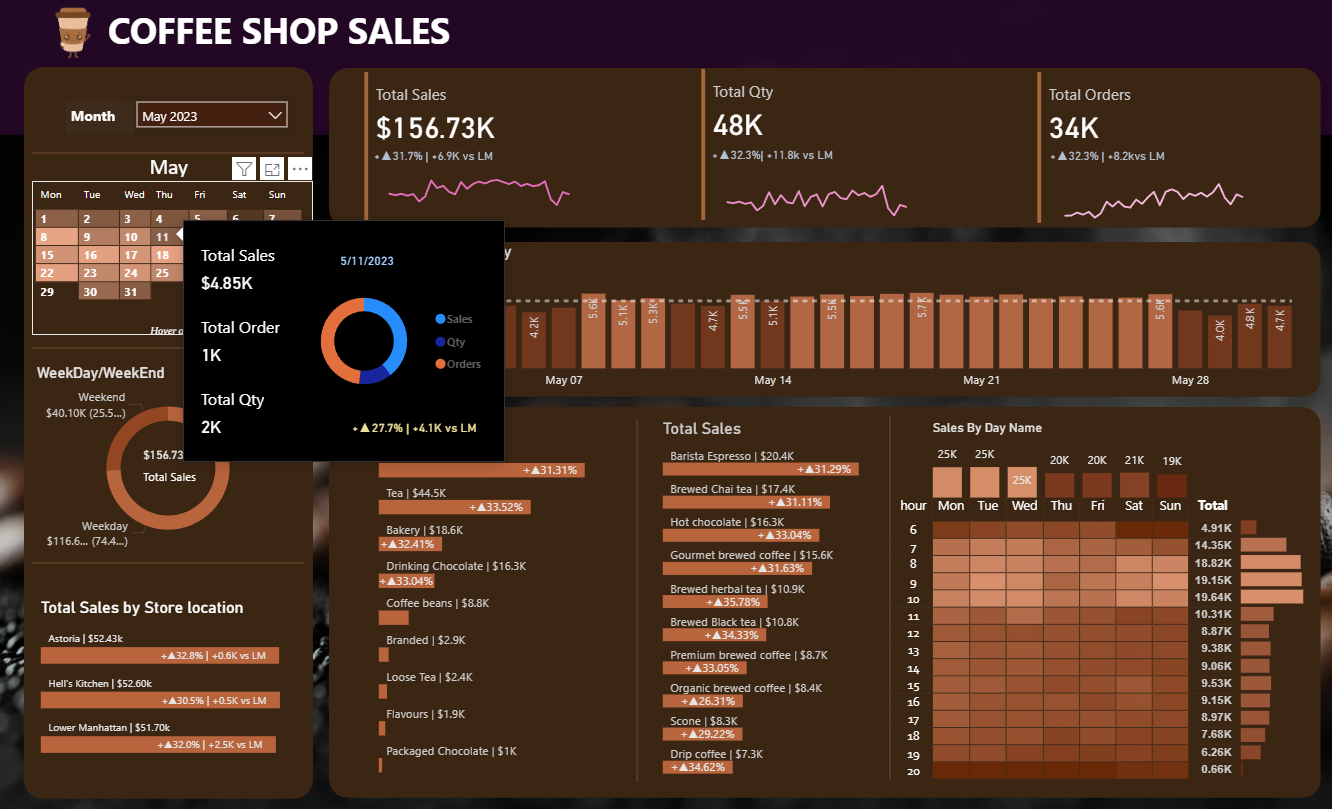

The page's visual inventory and layout, read from the dashboard file:
{"tool":"powerbi","page":{"name":"Page 1","canvas":[1400,850],"ordinal":0},"visuals":[{"type":"shape","box":[0,0,1399.6,142.4],"z":0},{"type":"shape","box":[25,71.2,302.5,766.2],"z":1000},{"type":"donutChart","title":"WeekDay/WeekEnd","fields":{"Category":["Date Table.WeekDay/WeekEnd"],"Y":["Date Table.Total Sales"]},"box":[33.5,382.1,284.7,199.9],"z":2000},{"type":"shape","box":[344.4,72.2,1038.4,167.5],"z":3000},{"type":"cardVisual","fields":{"Data":["Date Table.Total Sales"]},"box":[366.4,74.3,300.4,165.4],"z":3000,"group":"g1"},{"type":"cardVisual","fields":{"Data":["Date Table.date_hover"]},"box":[140.3,320.3,195.8,45],"z":4000},{"type":"cardVisual","fields":{"Data":["Date Table.Total Sales"]},"box":[132.9,456.4,96.3,65.9],"z":5000},{"type":"textbox","box":[97.9,2.1,389.4,72.3],"z":6000},{"type":"lineChart","fields":{"Category":["Date Table.Date.Variation.Date Hierarchy.Day"],"Y":["Date Table.Total Sales"]},"box":[386.3,157,280.5,79.6],"z":6000,"group":"g1"},{"type":"card","fields":{"Values":["Min(Date Table.Month)"]},"box":[151,161.2,51.7,29.7],"z":7000},{"type":"cardVisual","fields":{"Data":["Date Table.Total_qty_order"]},"box":[718.6,71.2,300.4,165.4],"z":8000,"group":"g2"},{"type":"group","id":"g1","title":"Group 1","box":[366.4,74.3,300.4,165.4],"z":8000},{"type":"group","id":"g2","title":"Group 2","box":[718.6,71.2,300.4,165.4],"z":9000},{"type":"cardVisual","fields":{"Data":["Date Table.Total_order"]},"box":[1070.9,74.3,300.4,165.4],"z":9000,"group":"g3"},{"type":"slicer","fields":{"Values":["Date Table.Month Year"]},"box":[132.9,97.9,177.7,44.7],"z":9000,"group":"g4"},{"type":"lineChart","fields":{"Category":["Date Table.Date.Variation.Date Hierarchy.Day"],"Y":["Date Table.Total_qty_order"]},"box":[739.5,156,279.5,80.6],"z":10000,"group":"g2"},{"type":"pivotTable","fields":{"Columns":["Date Table.dayname"],"Rows":["Date Table.weeks num"],"Values":["Min(Date Table.day num)"]},"box":[33.5,190.5,294.2,161.2],"z":10000},{"type":"group","id":"g3","title":"Group 3","box":[1070.9,74.3,300.4,165.4],"z":11000},{"type":"image","box":[25.5,0,103.2,71.3],"z":12000},{"type":"lineChart","fields":{"Category":["Date Table.Date.Variation.Date Hierarchy.Day"],"Y":["Sum(Transactions.transaction_id)"]},"box":[1093.9,157,277.4,79.6],"z":12001,"group":"g3"},{"type":"shape","box":[33.5,151.8,284.7,18.8],"z":13000},{"type":"shape","box":[33.5,328.7,284.7,73.3],"z":14000},{"type":"shape","box":[33.5,553.8,284.7,73.3],"z":15000},{"type":"clusteredBarChart","title":"Total Sales by Store location","fields":{"Y":["Date Table.clust0","Date Table.Total Sales"],"Category":["Transactions.store_location"]},"box":[37.7,627,286.8,169.6],"z":16000},{"type":"textbox","box":[69.1,107.5,71.3,35.1],"z":17000,"group":"g4"},{"type":"shape","box":[344.4,254.4,1038.4,162.3],"z":17000},{"type":"columnChart","title":"Sales Trend By All Day","fields":{"Category":["Transactions.transaction_date"],"Y":["Sum(Transactions.Sales)"]},"box":[361.1,254.4,1004.9,162.3],"z":18000},{"type":"group","id":"g4","title":"Group 7","box":[69.1,97.9,241.5,44.7],"z":19000},{"type":"shape","box":[344.4,427.1,1038.4,409.3],"z":20000},{"type":"shape","box":[912.4,436.4,37.7,380],"z":21000},{"type":"shape","box":[648.5,439.3,38.3,379.8],"z":22000},{"type":"clusteredBarChart","title":"Total Sales By Product Category","fields":{"Category":["Transactions.product_category"],"Y":["Date Table.top0","Date Table.Total Sales"]},"box":[391.5,439.1,257.8,376.7],"z":23000},{"type":"clusteredBarChart","title":"Sales By Products (Top 10)","fields":{"Category":["Transactions.product_type"],"Y":["Date Table.top0","Date Table.Total Sales"]},"box":[689,439.4,250.2,376.8],"z":24000},{"type":"pivotTable","fields":{"Columns":["Date Table.dayname"],"Values":["Sum(Transactions.Sales)"],"Rows":["Transactions.hour"]},"box":[931.4,515.9,368.1,321.3],"z":25000},{"type":"barChart","fields":{"Y":["Sum(Transactions.Sales)"],"Category":["Transactions.hour"]},"box":[1294.2,532.9,76.6,286.2],"z":26000},{"type":"columnChart","title":"Sales By Day | Hour","fields":{"Category":["Date Table.dayname"],"Y":["Sum(Transactions.Sales)"]},"box":[971.8,441.6,276.6,86.2],"z":27000}]}

Visuals, with their boxes in screenshot pixels (x1, y1, x2, y2), scaled from the page's 1400x850 canvas onto the 1332x809 screenshot:
shape: 0:0:1331:136
shape: 24:68:312:797
"WeekDay/WeekEnd" donutChart: 32:364:303:554
shape: 328:69:1316:228
cardVisual - Date Table.Total Sales: 349:71:634:228
cardVisual - Date Table.date_hover: 133:305:320:348
cardVisual - Date Table.Total Sales: 126:434:218:497
textbox: 93:2:464:71
lineChart - Date Table.Date.Variation.Date Hierarchy.Day x Date Table.Total Sales: 368:149:634:225
card - Min(Date Table.Month): 144:153:193:182
cardVisual - Date Table.Total_qty_order: 684:68:970:225
"Group 1" group: 349:71:634:228
"Group 2" group: 684:68:970:225
cardVisual - Date Table.Total_order: 1019:71:1305:228
slicer - Date Table.Month Year: 126:93:296:136
lineChart - Date Table.Date.Variation.Date Hierarchy.Day x Date Table.Total_qty_order: 704:148:970:225
pivotTable - Date Table.dayname x Date Table.weeks num: 32:181:312:335
"Group 3" group: 1019:71:1305:228
image: 24:0:122:68
lineChart - Date Table.Date.Variation.Date Hierarchy.Day x Sum(Transactions.transaction_id): 1041:149:1305:225
shape: 32:144:303:162
shape: 32:313:303:383
shape: 32:527:303:597
"Total Sales by Store location" clusteredBarChart: 36:597:309:758
textbox: 66:102:134:136
shape: 328:242:1316:397
"Sales Trend By All Day" columnChart: 344:242:1300:397
"Group 7" group: 66:93:296:136
shape: 328:406:1316:796
shape: 868:415:904:777
shape: 617:418:653:780
"Total Sales By Product Category" clusteredBarChart: 372:418:618:776
"Sales By Products (Top 10)" clusteredBarChart: 656:418:894:777
pivotTable - Date Table.dayname x Sum(Transactions.Sales): 886:491:1236:797
barChart - Sum(Transactions.Sales) x Transactions.hour: 1231:507:1304:780
"Sales By Day | Hour" columnChart: 925:420:1188:502
